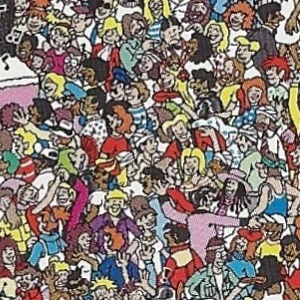Wizard Whitebeard: (82, 114, 112, 186)
